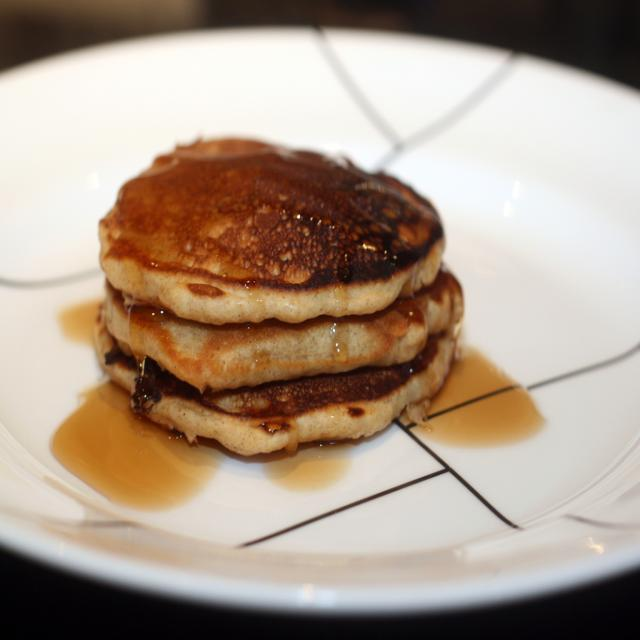Pancake: (101, 137, 447, 321)
